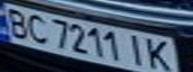1: (100, 28, 124, 62), (84, 25, 106, 58)
2: (66, 21, 87, 55)
7: (45, 17, 72, 50)
B: (0, 6, 33, 38)
C: (21, 11, 51, 44)
I: (124, 32, 148, 68)
K: (142, 37, 178, 72)
